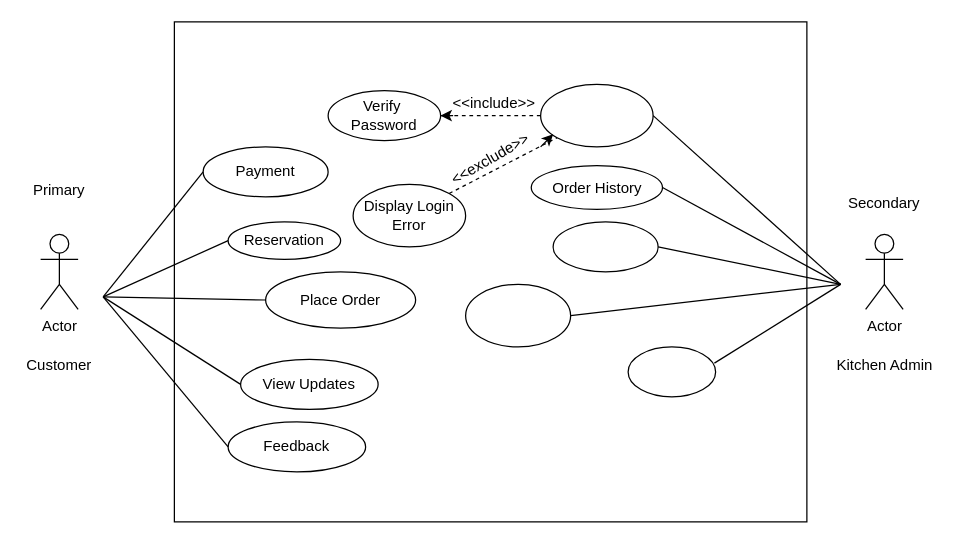
Image size: 959x544. Some labels were removed from this diagram. The box of each missing label's shape, as (x1, y1, x2, y2) in pixels:
Edit Menu: (552, 221, 658, 272)
Login: (539, 83, 653, 147)
Update Food Status: (464, 283, 571, 347)
Update Menu: (627, 346, 716, 397)
